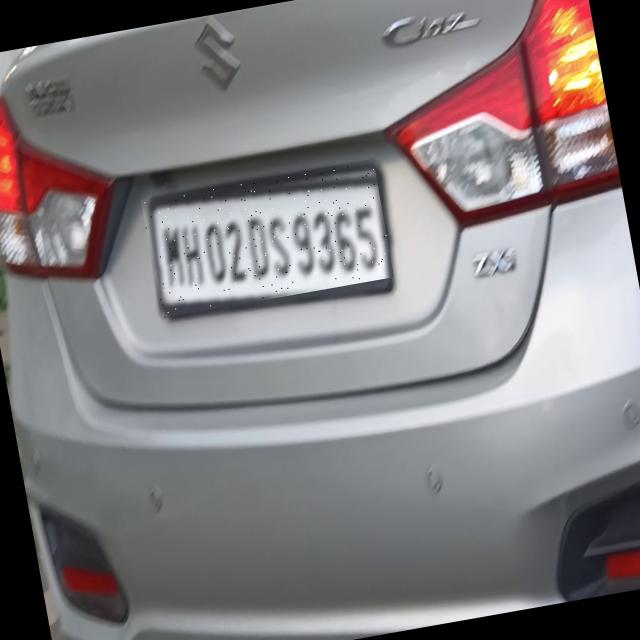Plate: (142, 160, 395, 319)
